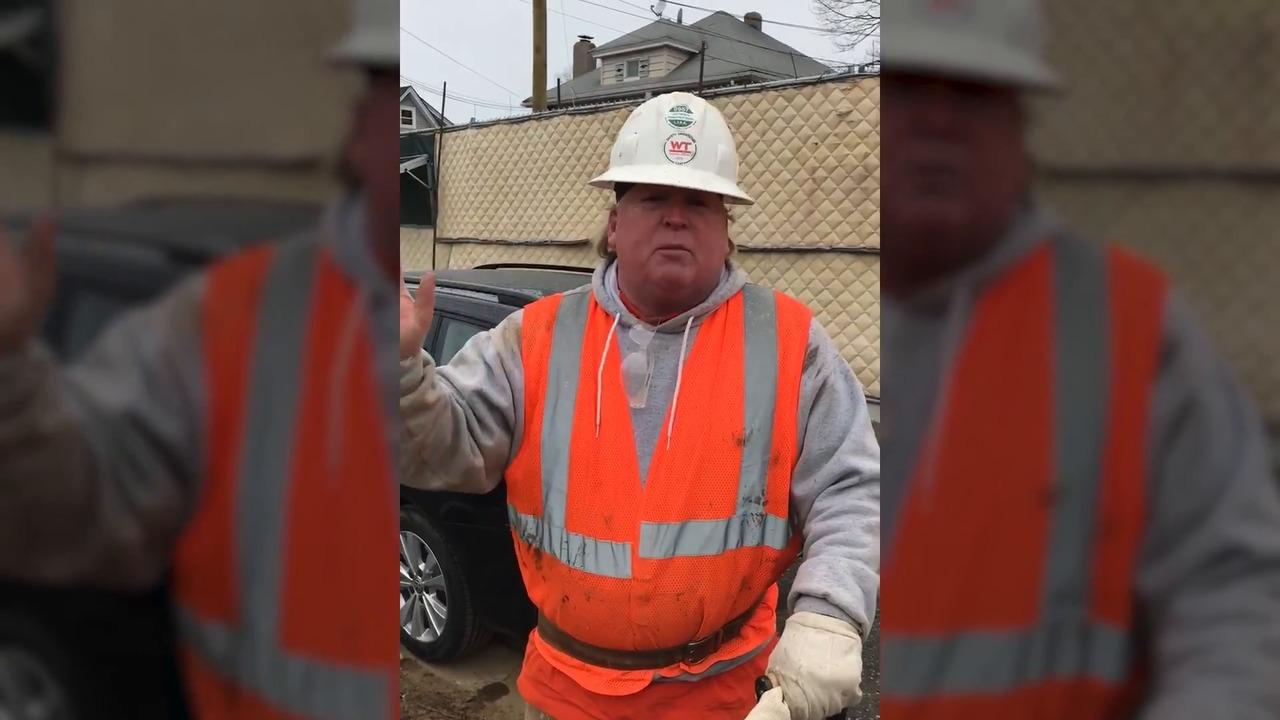helmet: (591, 93, 750, 198)
